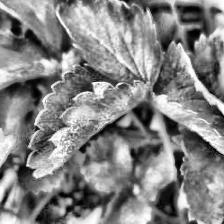Powdery Mildew Leaf: (26, 63, 150, 178), (146, 40, 224, 157)
